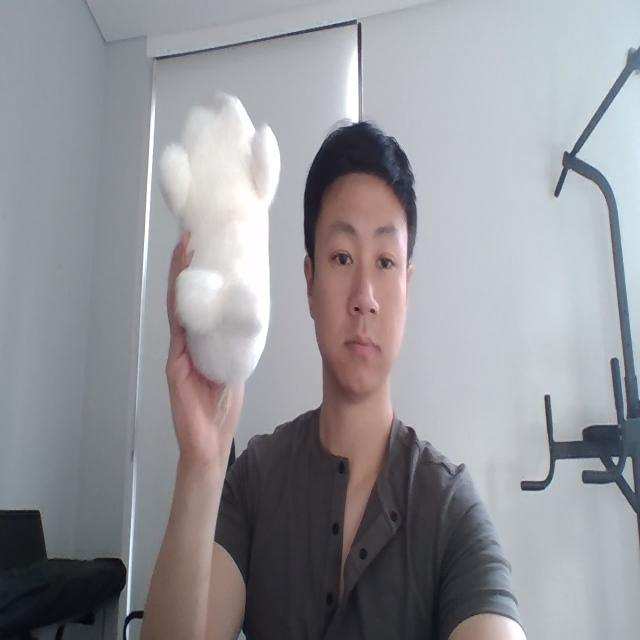seal_bb: (157, 90, 280, 392)
